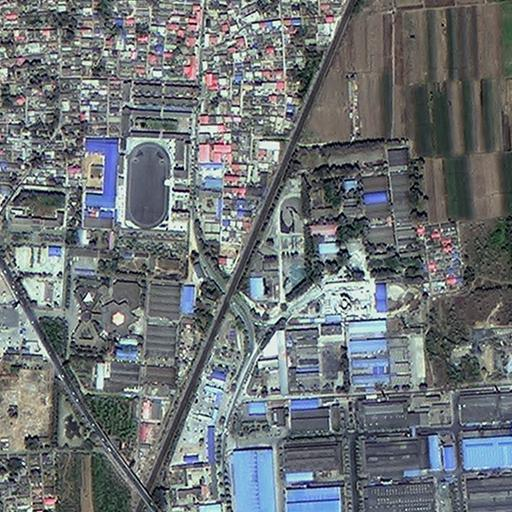school: (113, 79, 198, 232)
